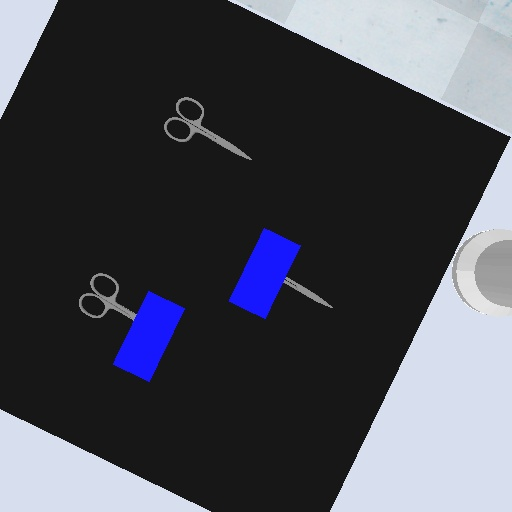tijera: (161, 94, 257, 165), (76, 270, 139, 325), (281, 275, 336, 314)
